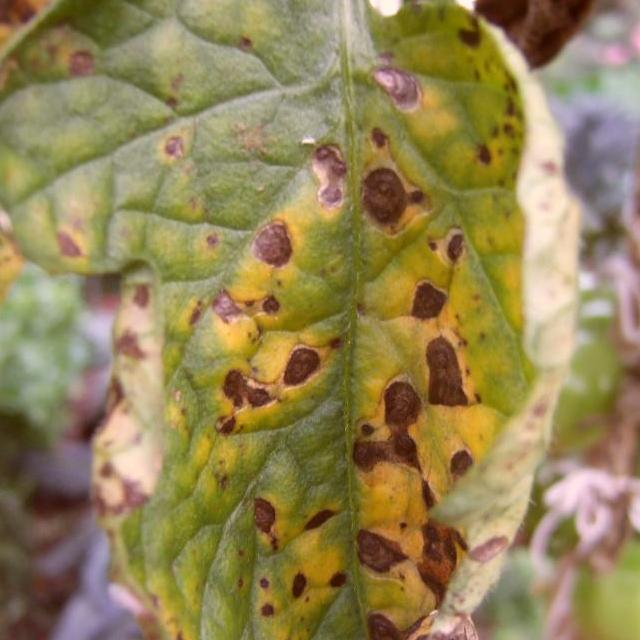Tomato Early blight leaf: (0, 2, 540, 640)
